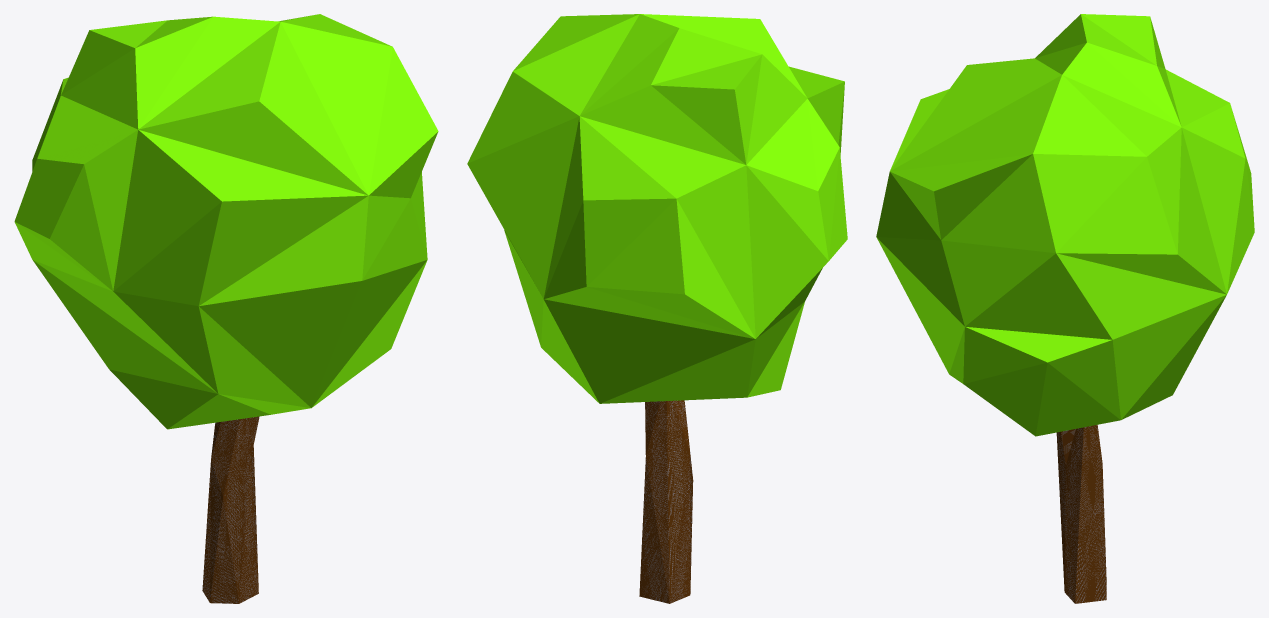
Rendered from trees.dae.
3 renders of one model, left to right at view 1: azimuth 30°, elevation 25°; view 2: azimuth 150°, elevation 25°; view 3: azimuth 270°, elevation 25°, orthographic. The views are drawn at different scales.
Parts seen in each view (by area): view 1: crown, trunk; view 2: crown, trunk; view 3: crown, trunk.
Boxes of the visible parts, box(x1,y1,x2,y2) form: crown: box(14, 14, 438, 429); trunk: box(202, 416, 259, 603); crown: box(467, 14, 847, 403); trunk: box(639, 400, 693, 603); crown: box(876, 14, 1254, 436); trunk: box(1056, 425, 1106, 603).
Bounding box in the file's own units: 11.76 × 11.33 × 17.95.
